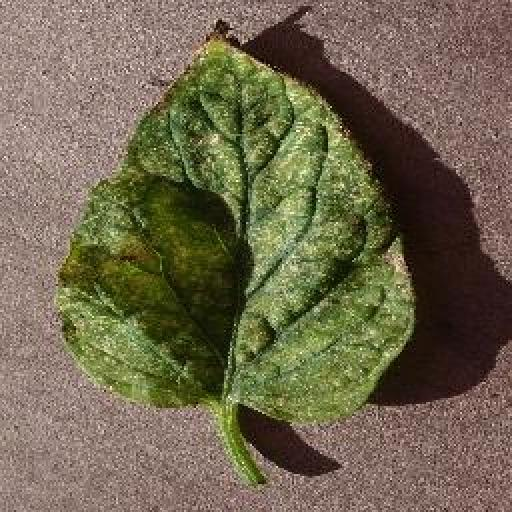disease_tomato: (56, 30, 414, 424)
